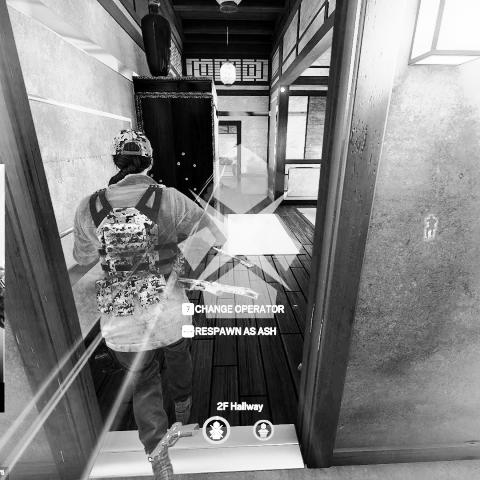Character: (70, 127, 230, 479), (229, 143, 240, 183)
Head: (110, 128, 156, 177), (232, 143, 238, 150)
